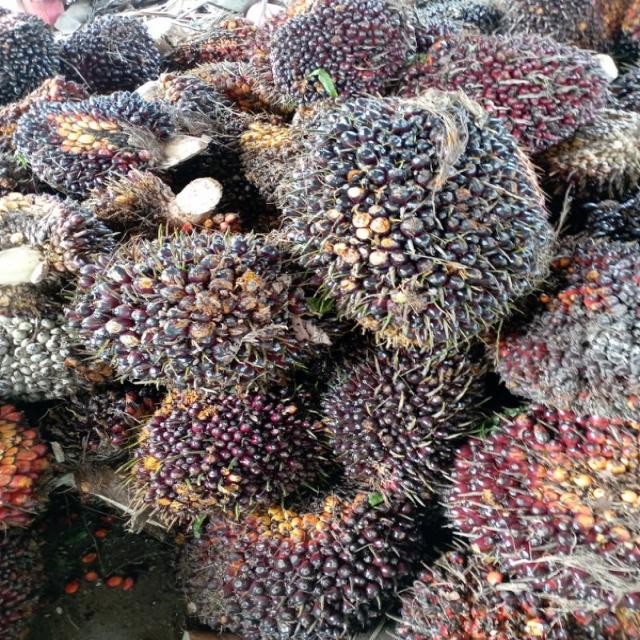fraksi 00: (290, 96, 556, 352), (61, 235, 321, 391), (6, 90, 183, 192), (276, 0, 416, 83), (58, 15, 154, 81)
fraksi 1: (198, 488, 419, 636), (434, 28, 614, 154), (126, 386, 306, 510), (318, 358, 462, 497)
fraksi 3: (442, 410, 640, 592)
